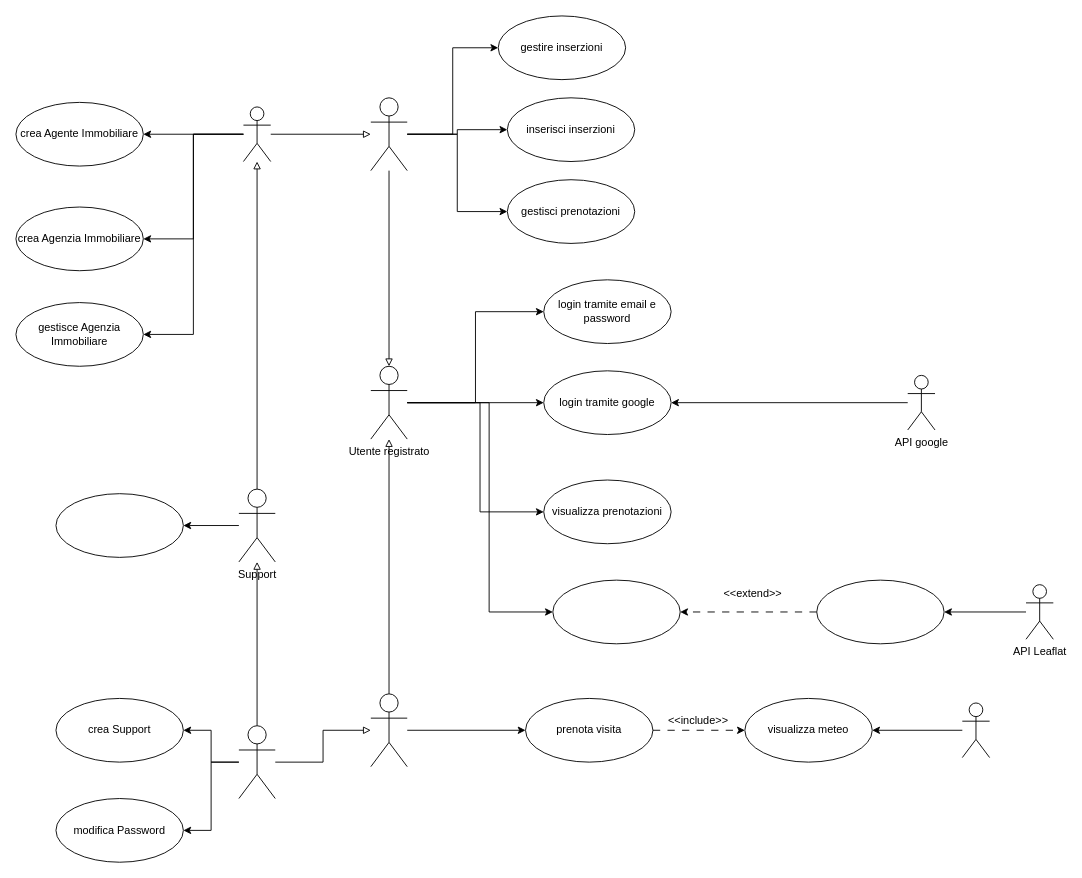
The diagram is 1082 pixels wide and 878 high, and some of its shapes have lost their labels. Each missing label, with the centre of its shape:
Admin: point 256,762
Agent: point 388,134
API OpenMeteo: point 975,730
Compratore: point 388,730
crea Manager: point 119,525
Manager: point 257,134
ricerca avanzata: point 616,611
visualizza mappa: point 880,611
